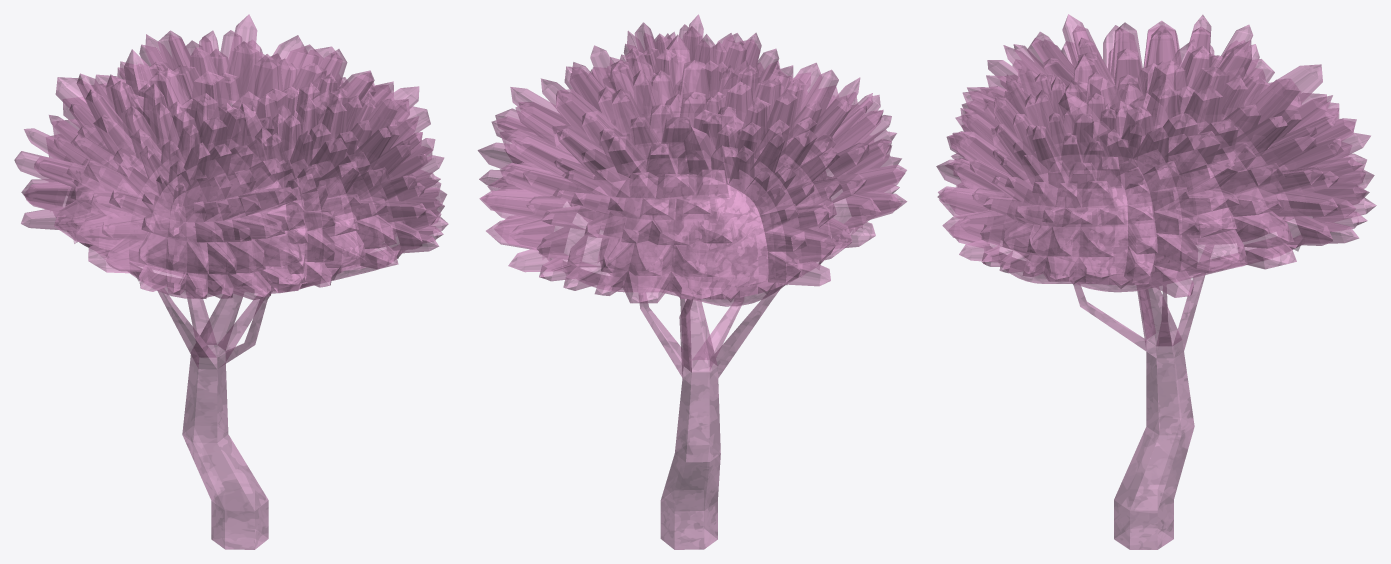
The model's file is сакура кристал.fbx.
The picture shows the model from 3 angles, left to right: view 1: azimuth 30°, elevation 25°; view 2: azimuth 150°, elevation 25°; view 3: azimuth 270°, elevation 25°; orthographic projection.
Parts seen in each view (by area): view 1: Cube.072, Cube.073, Cube.071, Cube.065; view 2: Cube.073, Cube.072, Cube.065, Cube.071; view 3: Cube.073, Cube.071, Cube.072, Cube.065.
Boxes of the visible parts, left/top/right/bottom form: Cube.072: left=14, top=49, right=321, bottom=300; Cube.073: left=46, top=14, right=430, bottom=293; Cube.071: left=180, top=72, right=448, bottom=290; Cube.065: left=147, top=209, right=272, bottom=549; Cube.073: left=477, top=34, right=833, bottom=303; Cube.072: left=597, top=62, right=907, bottom=306; Cube.065: left=639, top=287, right=780, bottom=549; Cube.071: left=564, top=14, right=810, bottom=252; Cube.073: left=989, top=39, right=1376, bottom=297; Cube.071: left=936, top=53, right=1197, bottom=283; Cube.072: left=945, top=14, right=1301, bottom=244; Cube.065: left=1073, top=206, right=1235, bottom=549.
Size of the model in its own units: 286 by 345 by 289.
